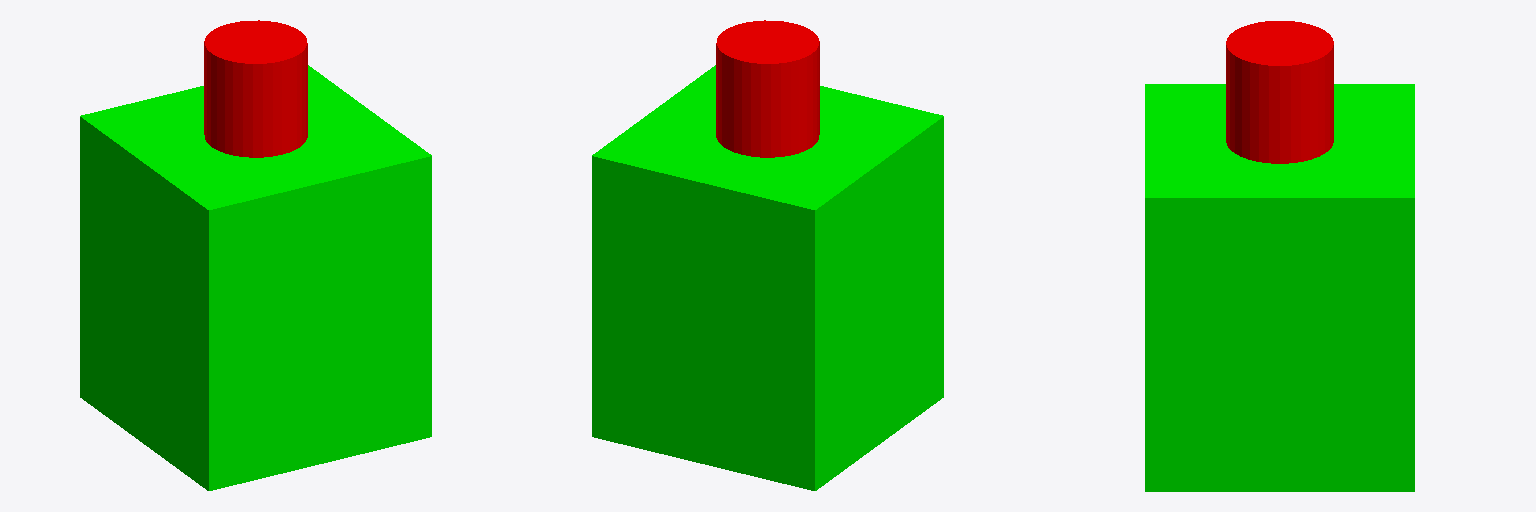
robot.urdf — simple_box:
<?xml version="1.0"?>
<robot name = "simple_box">

    <link name = "dummy"/>

    <link name="base_link">
        <visual>
            <geometry>
                <box size = "0.25 0.25 0.3" />
            </geometry>
            <material name = "green">
                <color rgba = "0 1 0 1" />
            </material>
        </visual>
        <collision>
            <geometry>
                <box size="0.25 0.25 0.3"/>
            </geometry>
        </collision>
        <inertial>
            <mass value = "10.0"/>
            <origin xyz = "0 0 0" rpy= "0 0 0"/> 
            <inertia ixx="1.0" ixy = "0.0" ixz="0.0" iyy="1.0" iyz="0.0" izz="1.0"/>
        </inertial>
    </link>

    <joint name= "dummy_joint" type = "fixed">
        <parent link= "dummy" />
        <child link= "base_link"/>
    </joint>

    <gazebo reference= "base_link">
        <material>Gazebo/Purple</material>
        <mu1>0.2</mu1>
        <mu2>0.2</mu2>

    </gazebo>

    
    <!-- depth camera -->

    <link name= "lidar_link">
        <visual>
            <geometry> 
                <cylinder radius= "0.05" length= "0.1" />
            </geometry>
            <material name= "red" >
                <color rgba= "1 0 0 1" />
            </material>
        </visual>
        <inertial>
            <mass value= "0.2" />
            <origin xyz= "0 0 0" />
            <inertia ixx= "0.1" ixy= "0.0" ixz= "0.0" iyy= "0.0" iyz= "0.0" izz= "0.1" />
        </inertial>
        <collision>
            <geometry>
                <cylinder radius= "0.05" length= "0.1" />
            </geometry>
        </collision>
    </link>

    <joint name= "lidar_joint" type= "fixed">
        <parent link= "base_link" />
        <child link= "lidar_link" />
        <origin xyz= "0 0 0.2" rpy= "0 0 0"/>
    </joint> 

    <gazebo reference= "lidar_link">
        <material>Gazebo/Black</material>
        <sensor type= "ray" name= "lidar_sensor">
            <visualize>false</visualize>
            <update_rate>10</update_rate>
            <ray>
                <scan>
                    <horizontal>
                        <samples>360</samples>
                        <!-- <resolution>1</resolution> -->
                        <min_angle>-3.14</min_angle>
                        <max_angle>3.14</max_angle>
                    </horizontal>
                </scan>
                <range>
                    <min>0.3</min>
                    <max>5</max>
                    <!-- <resolution>0.01</resolution> -->
                </range>
            </ray>
            <plugin name= "lidar_sensor" filename= "libgazebo_ros_laser.so">
                <frameName>lidar_link</frameName>
                <!-- <ros>
                    <argument>~/out:=scan</argument>
                </ros>
                <output_type>sensor_msgs/LaserScan</output_type> -->
                <topicName>/scan</topicName>
                
            </plugin>
        </sensor>
    </gazebo>


</robot>

--- What the picture shows (computed from the rendered views, not written in the file) ---
3 views of the same robot in one strip: view 1: azimuth 30°, elevation 25°; view 2: azimuth 150°, elevation 25°; view 3: azimuth 270°, elevation 25° (orthographic).
Robot: simple_box — 3 links, 2 joints (2 fixed); root link dummy; default pose: all joints at 0.
Links seen in each view (by area): view 1: base_link, lidar_link; view 2: base_link, lidar_link; view 3: base_link, lidar_link.
Boxes of the visible links, box(x1,y1,x2,y2) form: base_link: box(80, 65, 431, 490); lidar_link: box(204, 20, 307, 157); base_link: box(592, 65, 943, 490); lidar_link: box(716, 20, 819, 157); base_link: box(1145, 84, 1414, 491); lidar_link: box(1226, 21, 1333, 163).
Size in the robot's own frame: 0.25 by 0.25 by 0.4 metres.
Geometry: primitives only (box / cylinder / sphere), no mesh files.
